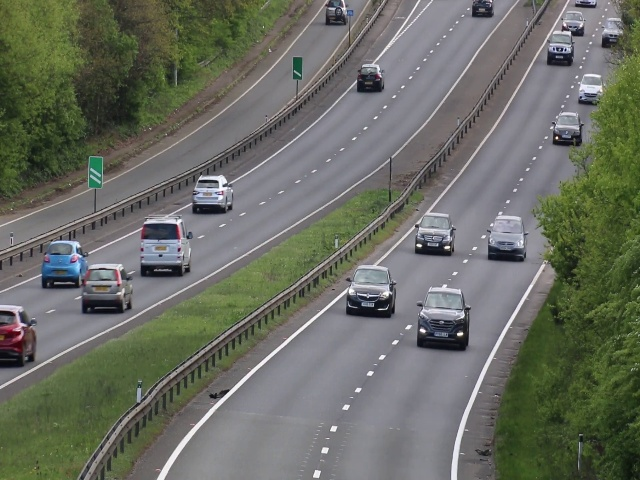car: (416, 283, 469, 350), (139, 212, 193, 277), (346, 260, 396, 317), (81, 262, 132, 315), (38, 239, 93, 285), (1, 303, 38, 368), (191, 172, 235, 215), (487, 213, 527, 260), (414, 210, 455, 254), (552, 108, 580, 146), (547, 31, 574, 66), (355, 62, 386, 92), (578, 72, 603, 105), (601, 16, 624, 48), (323, 1, 351, 25), (560, 12, 586, 34), (470, 1, 496, 18)
